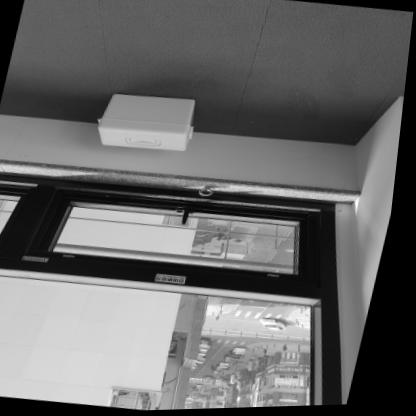DDL: (94, 89, 203, 157)
